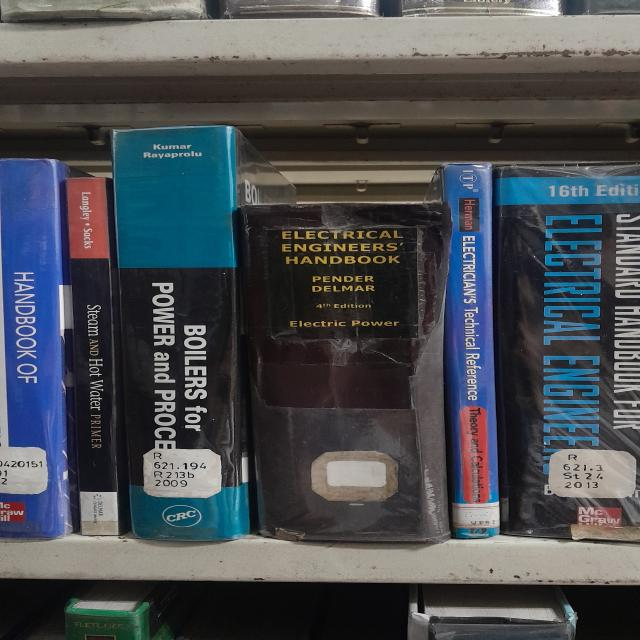book: (241, 203, 450, 542), (111, 126, 249, 540), (494, 164, 640, 542), (0, 159, 72, 539), (428, 163, 500, 539), (66, 173, 125, 536)
